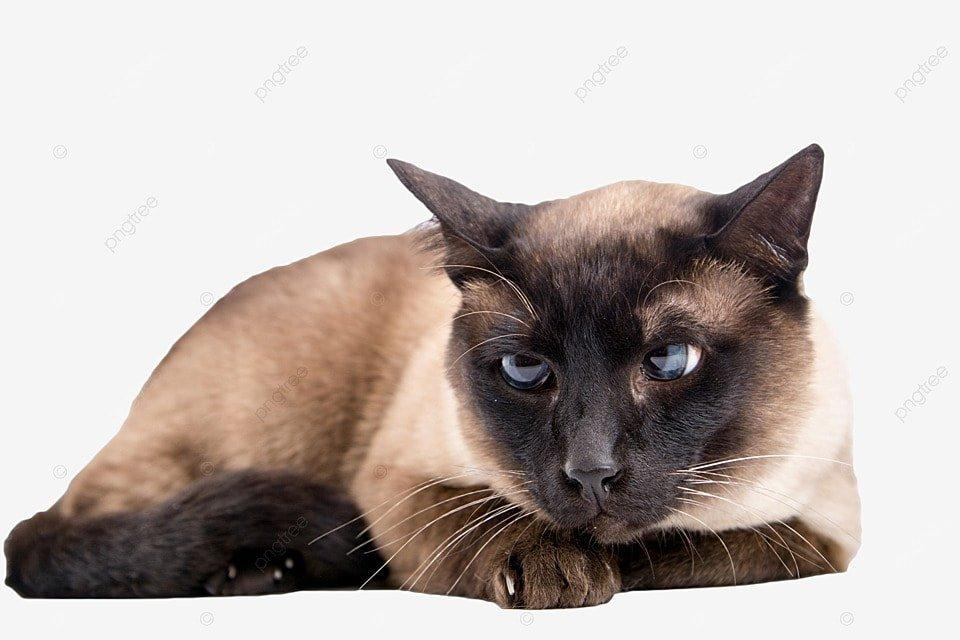siamese: (375, 122, 843, 541)
